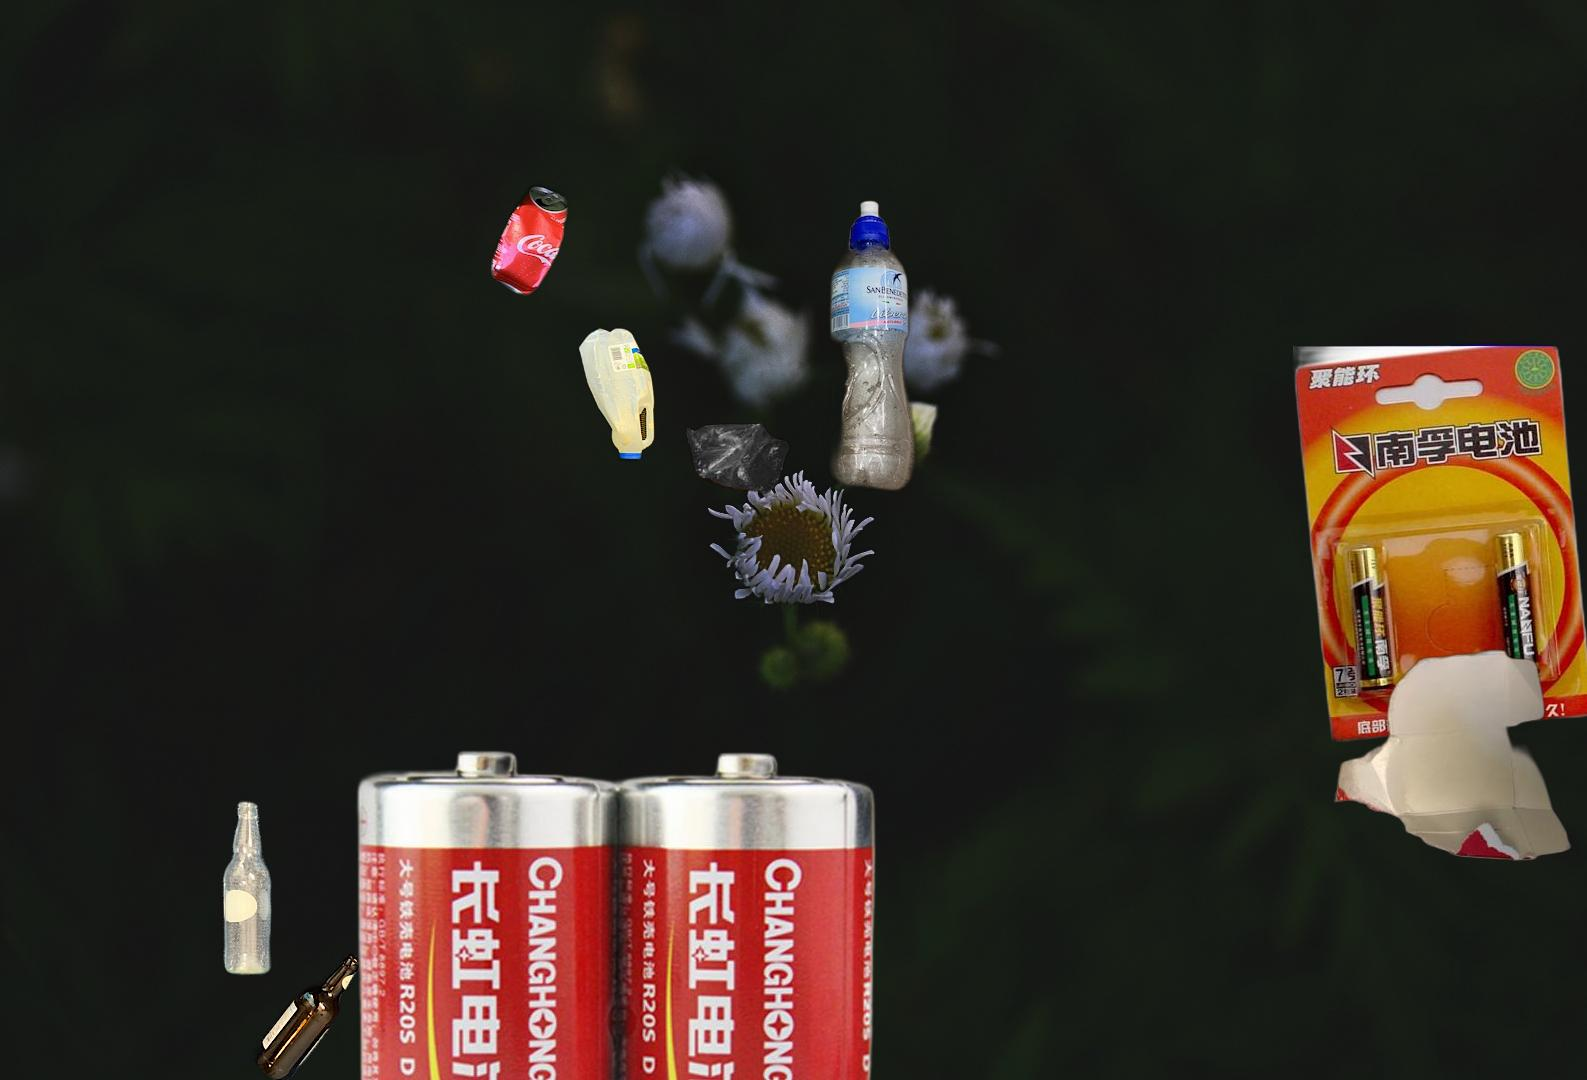battery: (349, 744, 883, 1080), (1293, 331, 1587, 746)
glass: (218, 794, 368, 1080)
metal-cans: (487, 180, 574, 303)
paper: (1330, 646, 1575, 863)
plastic-bag: (598, 228, 790, 497)
plastic-bottles: (686, 196, 982, 517), (574, 240, 822, 466)
